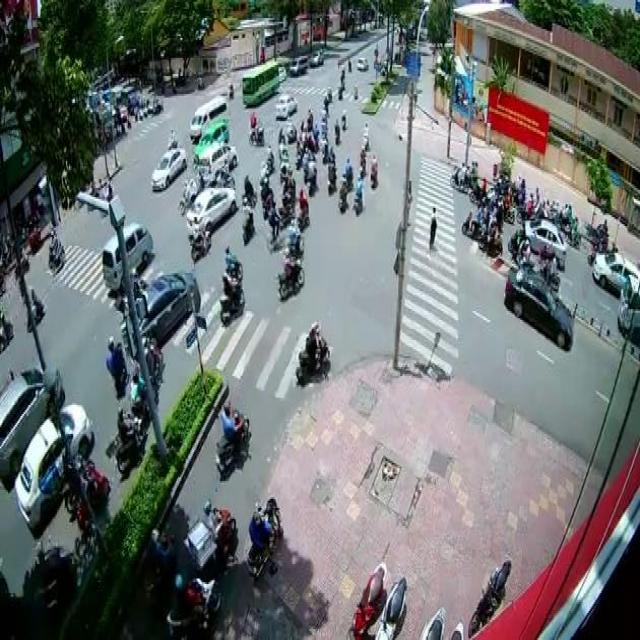bicycle: (266, 201, 286, 253)
bus: (240, 60, 278, 103)
car: (15, 400, 90, 535), (0, 362, 62, 494), (504, 269, 574, 349), (131, 269, 200, 349), (185, 186, 237, 235), (523, 217, 566, 269), (591, 251, 639, 295), (149, 144, 186, 190), (197, 142, 237, 182), (192, 118, 228, 159), (274, 92, 298, 120)
motorcycle: (167, 571, 220, 640), (187, 495, 237, 566), (246, 492, 280, 578), (213, 398, 250, 475), (294, 320, 331, 387), (115, 405, 143, 472), (216, 266, 244, 327), (276, 246, 305, 298), (105, 333, 127, 396), (460, 202, 485, 240), (222, 242, 243, 280), (240, 193, 255, 246), (48, 228, 64, 271), (448, 161, 468, 195), (294, 190, 308, 228), (247, 118, 263, 146), (306, 154, 317, 194), (352, 174, 362, 214), (369, 154, 378, 190), (358, 143, 366, 177)
truck: (101, 218, 152, 294), (188, 94, 226, 139)
